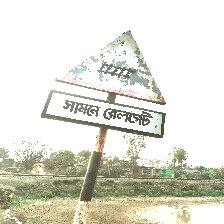Rail-crossing: (43, 31, 167, 138)
